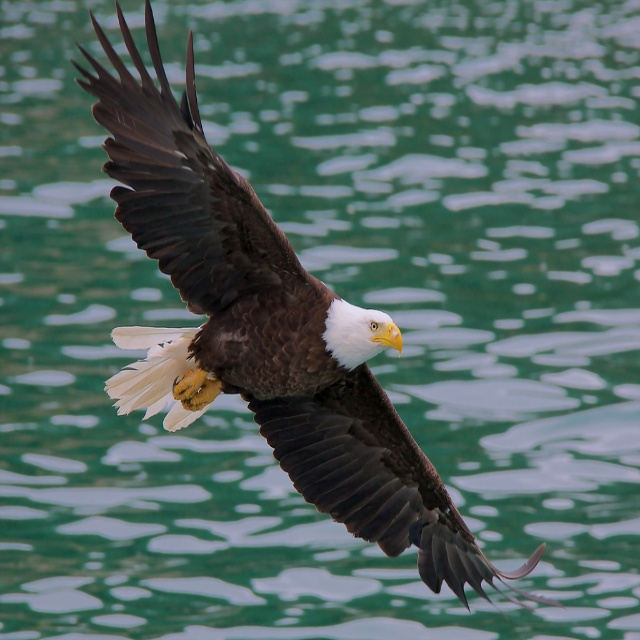Eagle: (72, 0, 547, 616)
